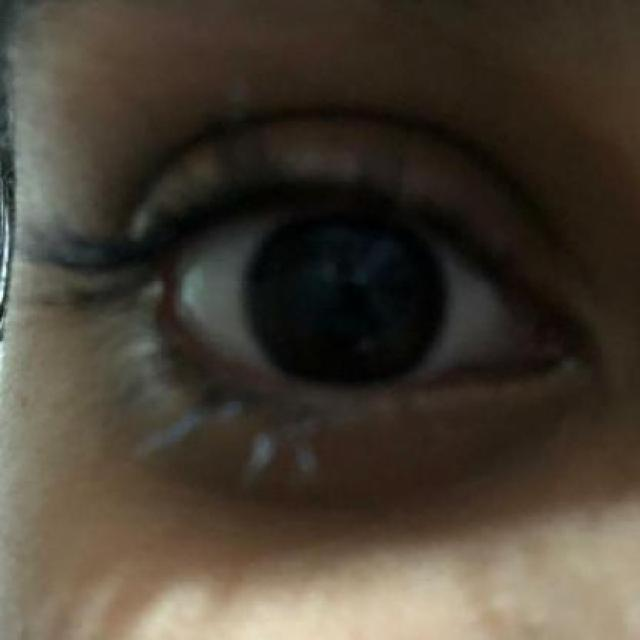awake: (115, 116, 603, 513)
